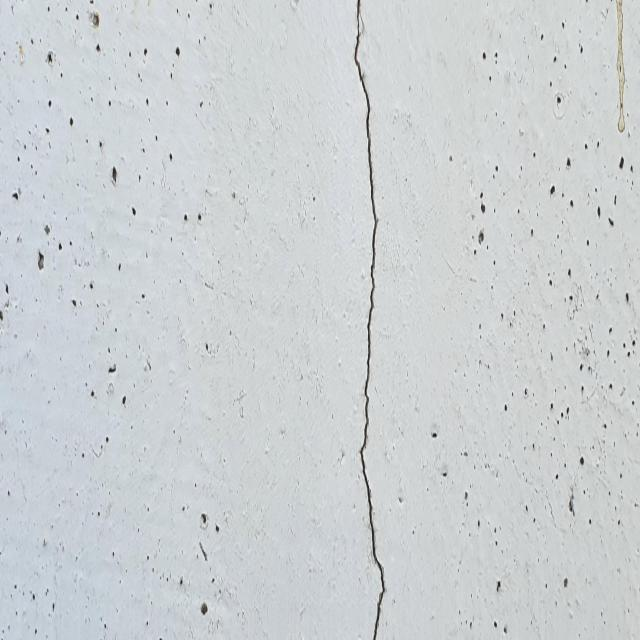SurfaceCrack: (309, 1, 431, 640)
